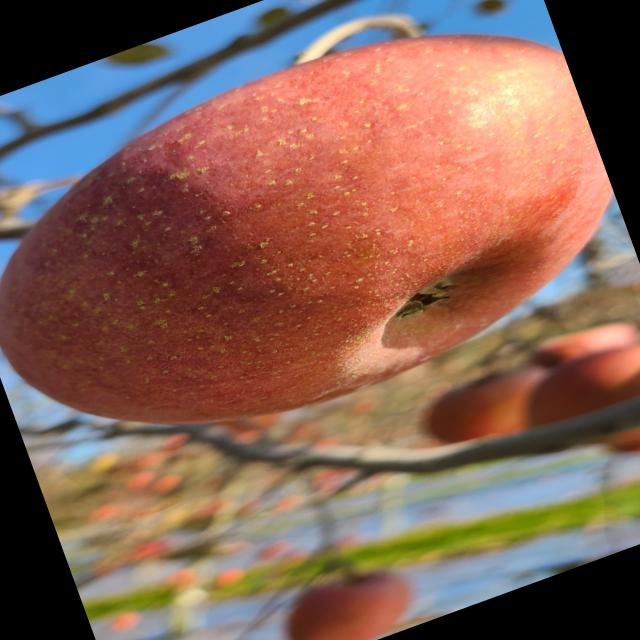fresh: (1, 1, 640, 512)
